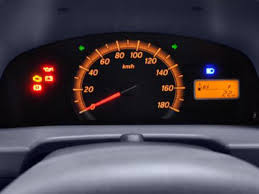Digital_Meter: (196, 81, 240, 98)
